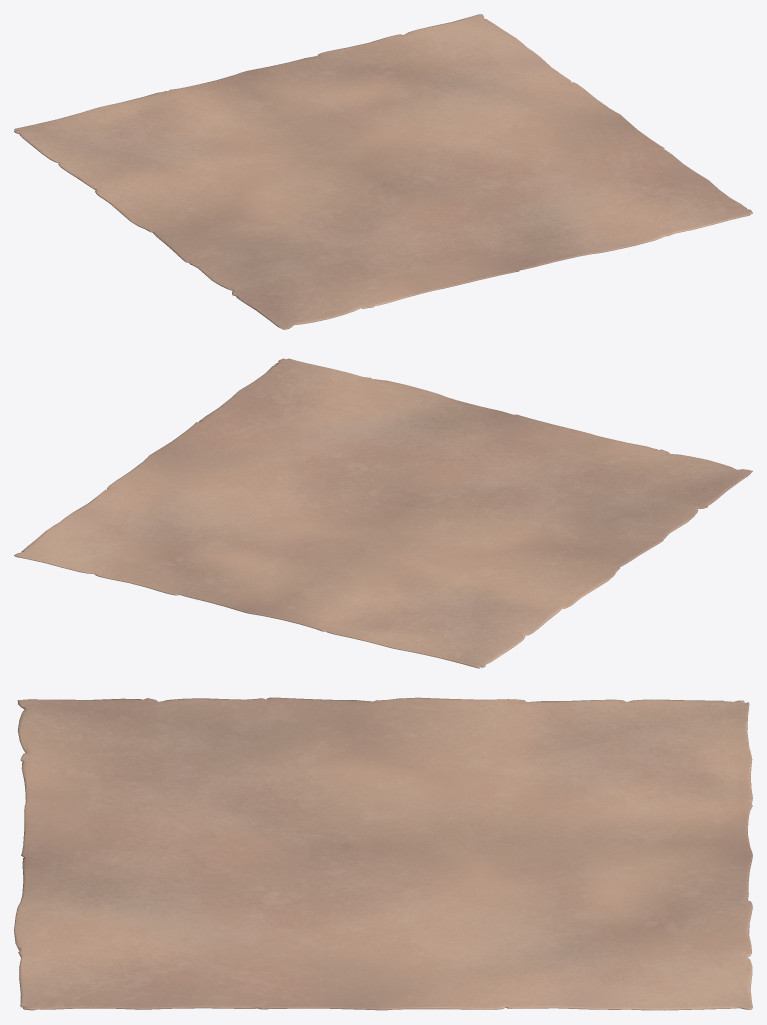
The model's file is ground_02.fbx.
3 views of the same model, one above another, from view 1: azimuth 30°, elevation 25°; view 2: azimuth 150°, elevation 25°; view 3: azimuth 270°, elevation 25° (orthographic). The views are drawn at different scales.
Parts seen in each view (by area): view 1: p_lp.001; view 2: p_lp.001; view 3: p_lp.001.
Boxes of the visible parts, x1,y1,x2,y2 form: p_lp.001: (14, 14, 752, 329); p_lp.001: (14, 358, 752, 668); p_lp.001: (14, 697, 752, 1010).
Bounding box in the file's own units: 210 × 0.4067 × 210.
